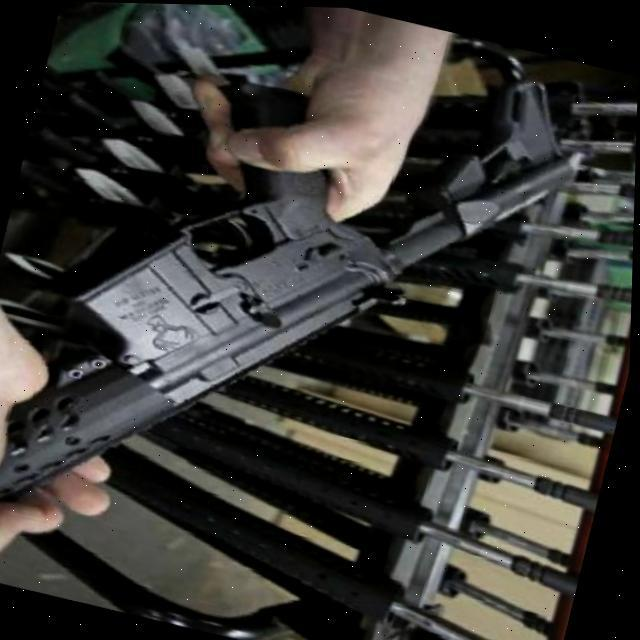gun: (18, 39, 444, 452)
